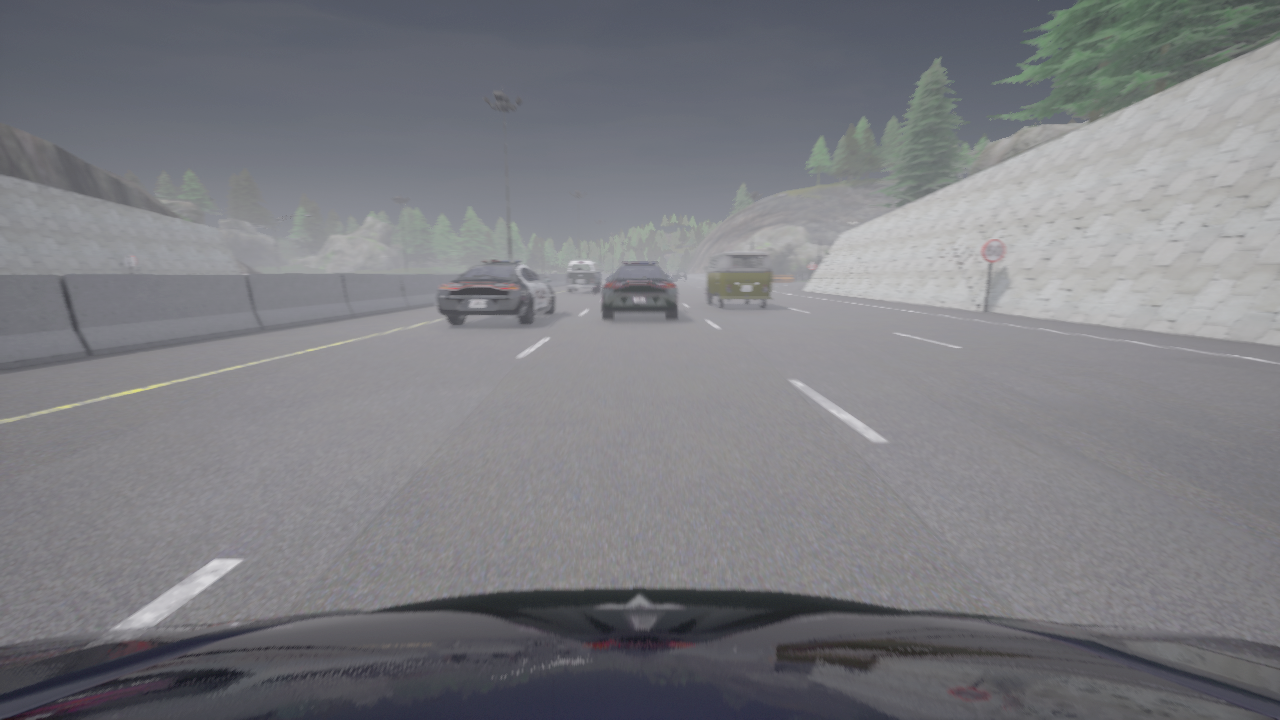cyclist: (0, 588, 1279, 719), (435, 260, 555, 324), (602, 261, 677, 319), (704, 250, 772, 308), (567, 259, 602, 292), (673, 268, 687, 280)
